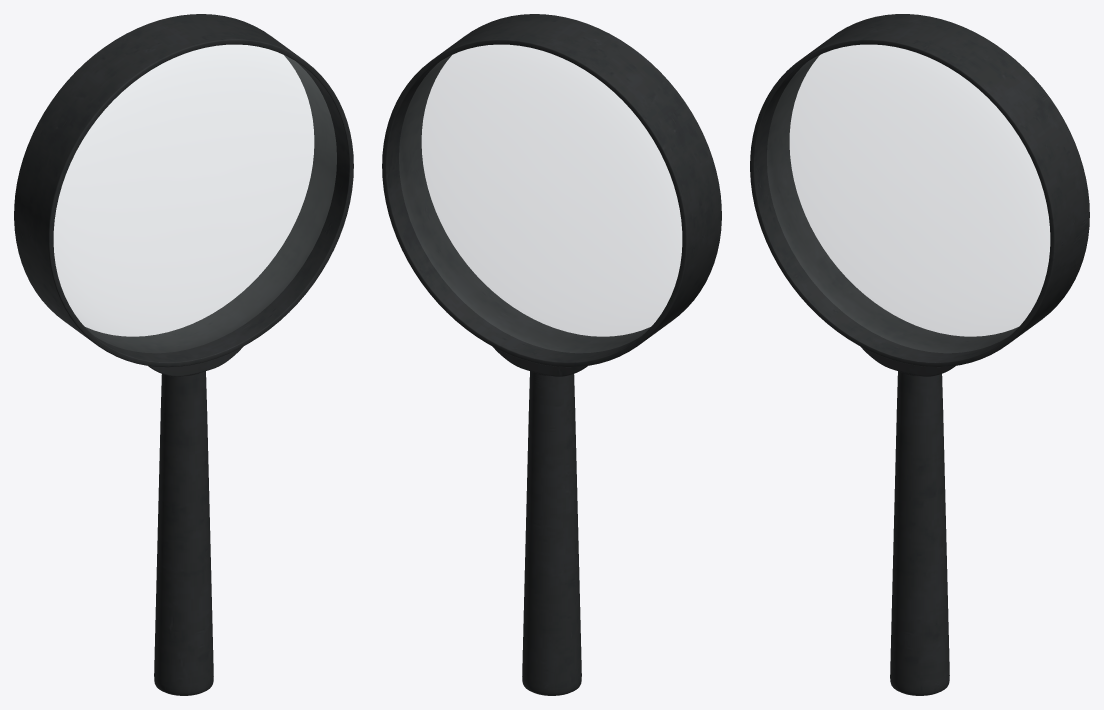
Rendered from magnifying_glass_01.gltf.
3 views of the same model, side by side, from view 1: azimuth 30°, elevation 25°; view 2: azimuth 150°, elevation 25°; view 3: azimuth 330°, elevation 25° (orthographic).
Visible parts, largest first — view 1: magnifying_glass_01; view 2: magnifying_glass_01; view 3: magnifying_glass_01.
Part boxes in pixels (x1,y1,x2,y2): magnifying_glass_01: (14, 14, 353, 695); magnifying_glass_01: (382, 14, 721, 695); magnifying_glass_01: (750, 14, 1089, 695).
Size of the model in its own units: 0.1321 by 0.2716 by 0.0267.
2 materials, 1 textured.
